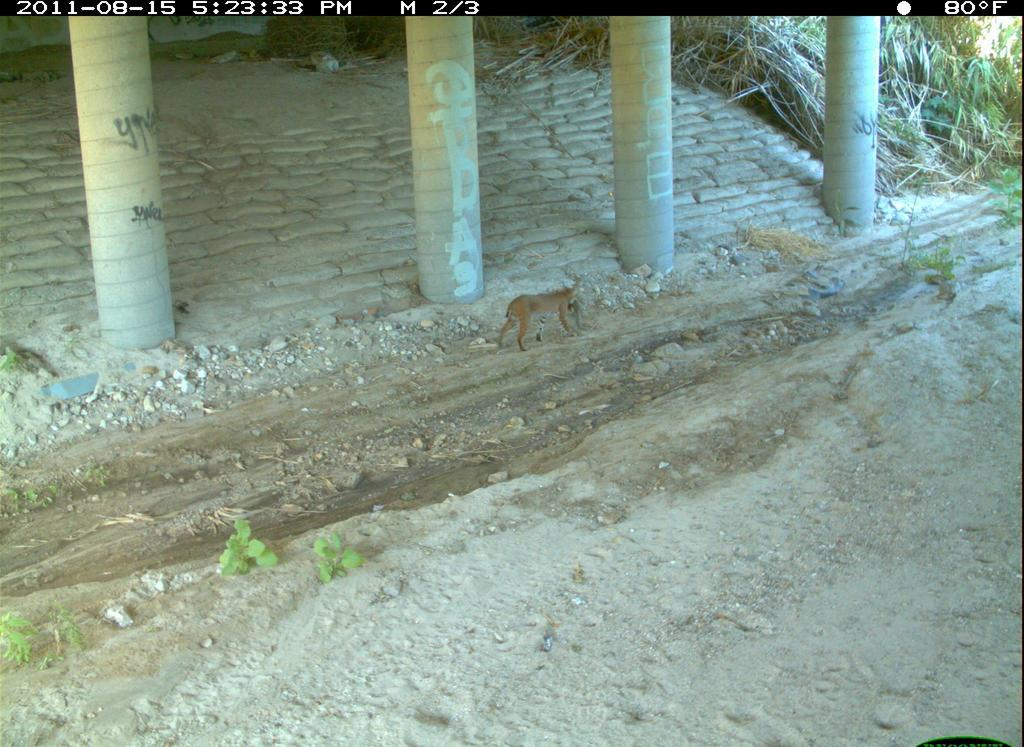bobcat: (984, 542, 1024, 712)
